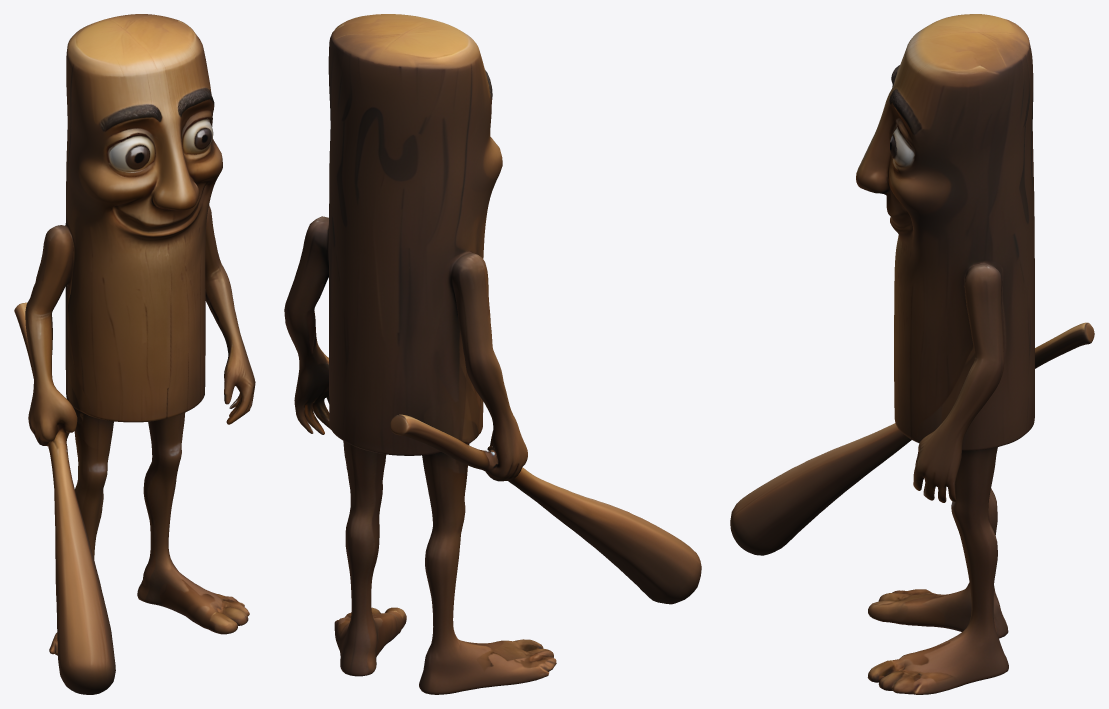
File: sahurrr.glb
3 renders of one model, left to right at view 1: azimuth 30°, elevation 25°; view 2: azimuth 150°, elevation 25°; view 3: azimuth 270°, elevation 25°, orthographic. The views are drawn at different scales.
Parts seen in each view (by area): view 1: model.001; view 2: model.001; view 3: model.001.
Boxes of the visible parts, x1,y1,x2,y2 form: model.001: (14,14,255,694); model.001: (284,14,701,694); model.001: (730,14,1094,694).
Size of the model in its own units: 7.04 by 14.15 by 7.54.
Materials: 1 (1 with a texture image).
